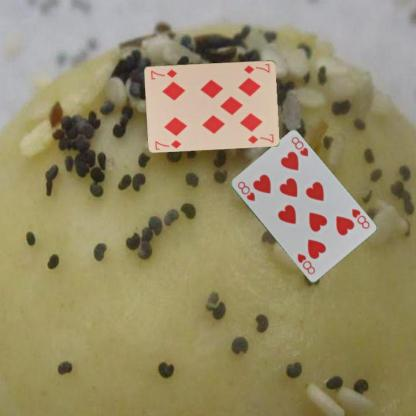7d: (241, 61, 271, 75), (152, 138, 182, 150)
8h: (349, 206, 371, 230), (235, 179, 256, 202)
